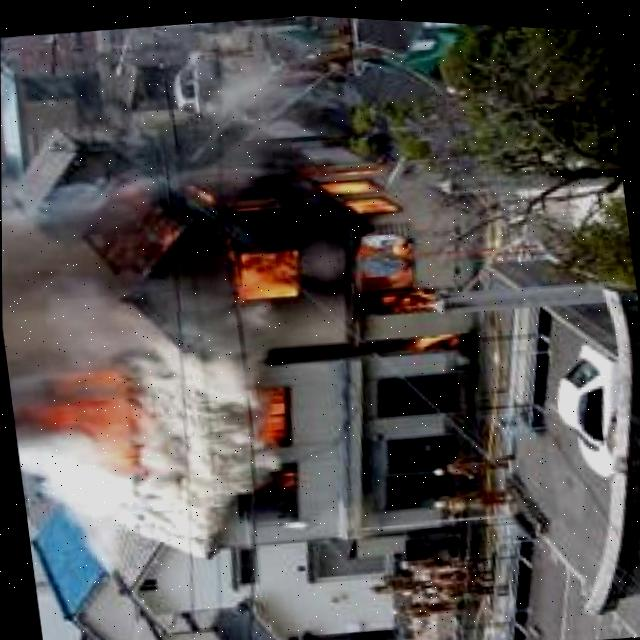Fire: (191, 138, 451, 343), (190, 141, 427, 332), (43, 364, 146, 488), (242, 376, 294, 449), (251, 376, 295, 457)
Smoke: (1, 202, 240, 610)
